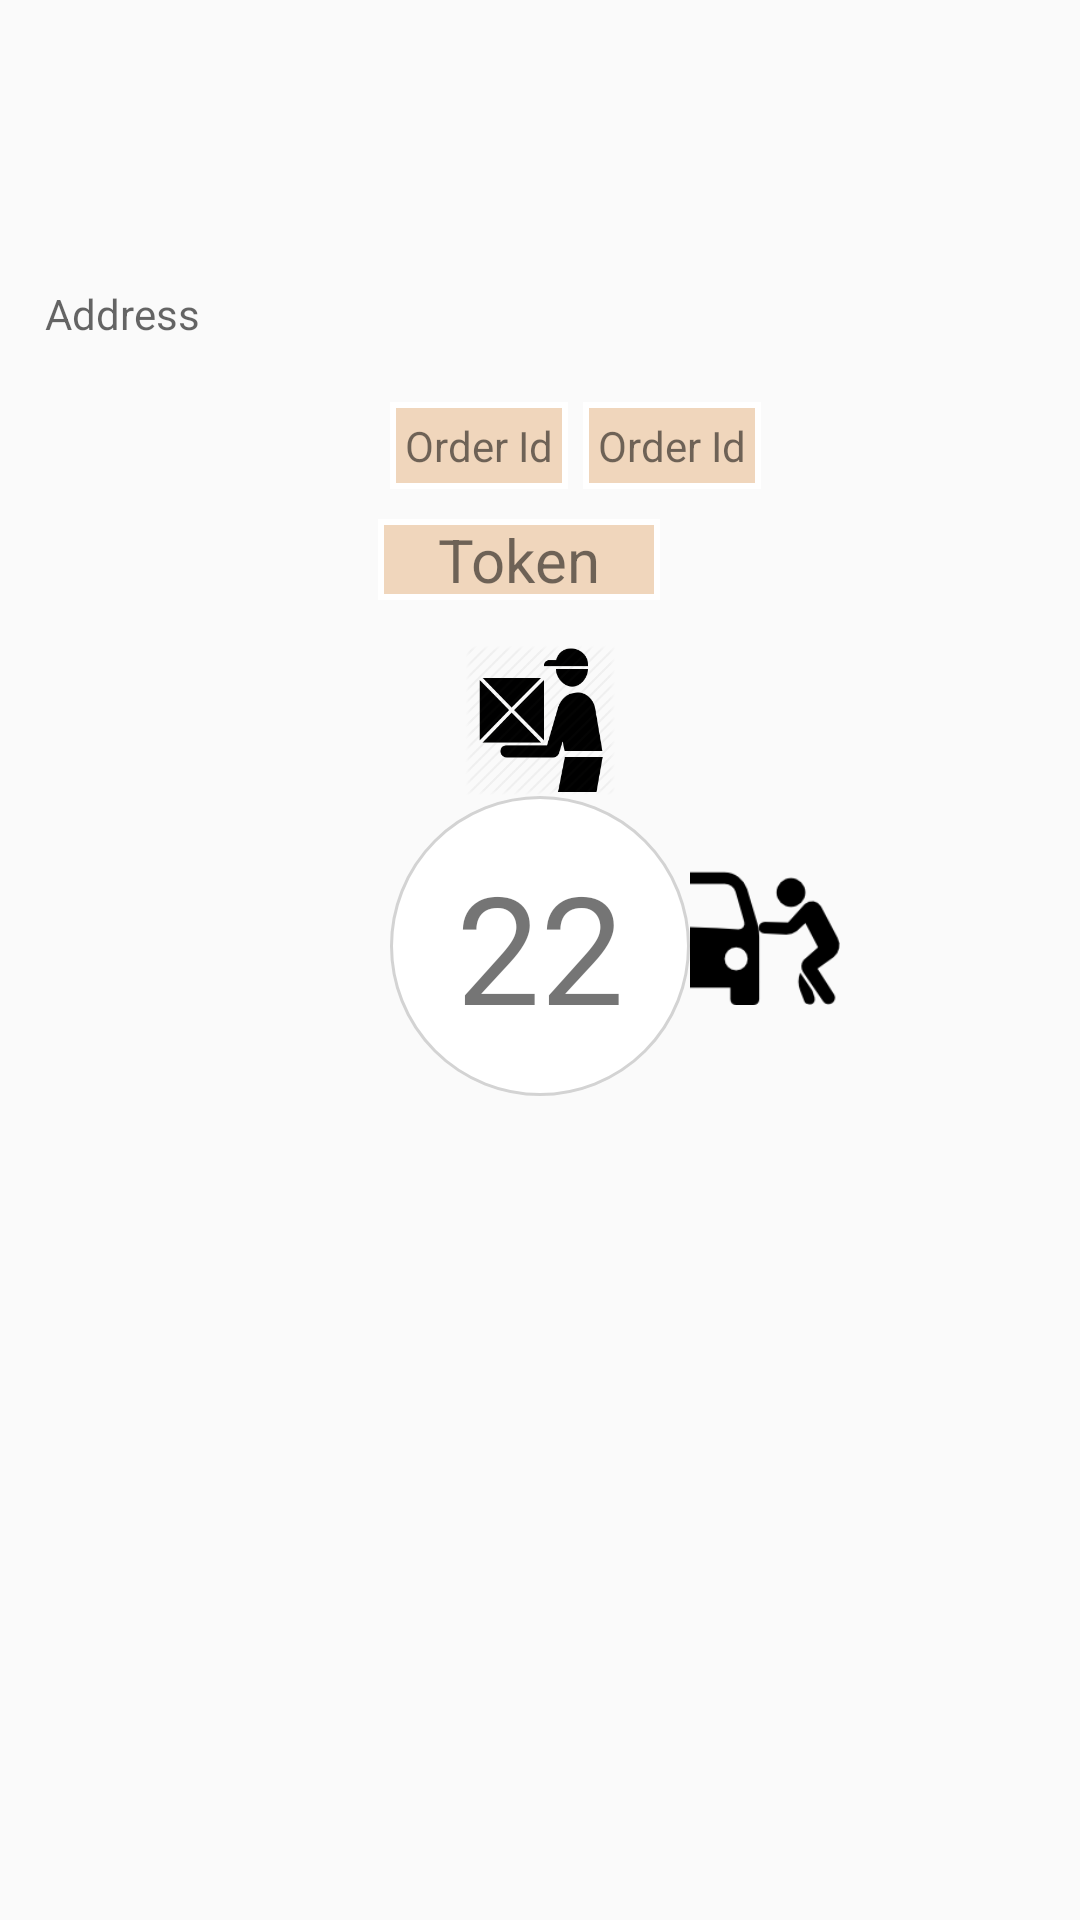

Point at icon controls on the screen. Image size 1080 x 1920, points as point (x, y).
fordelivery: point (541, 720)
